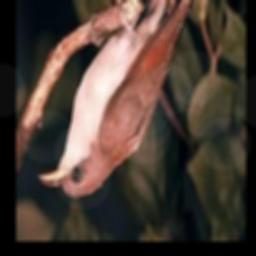Cuckoo: (38, 0, 200, 199)
